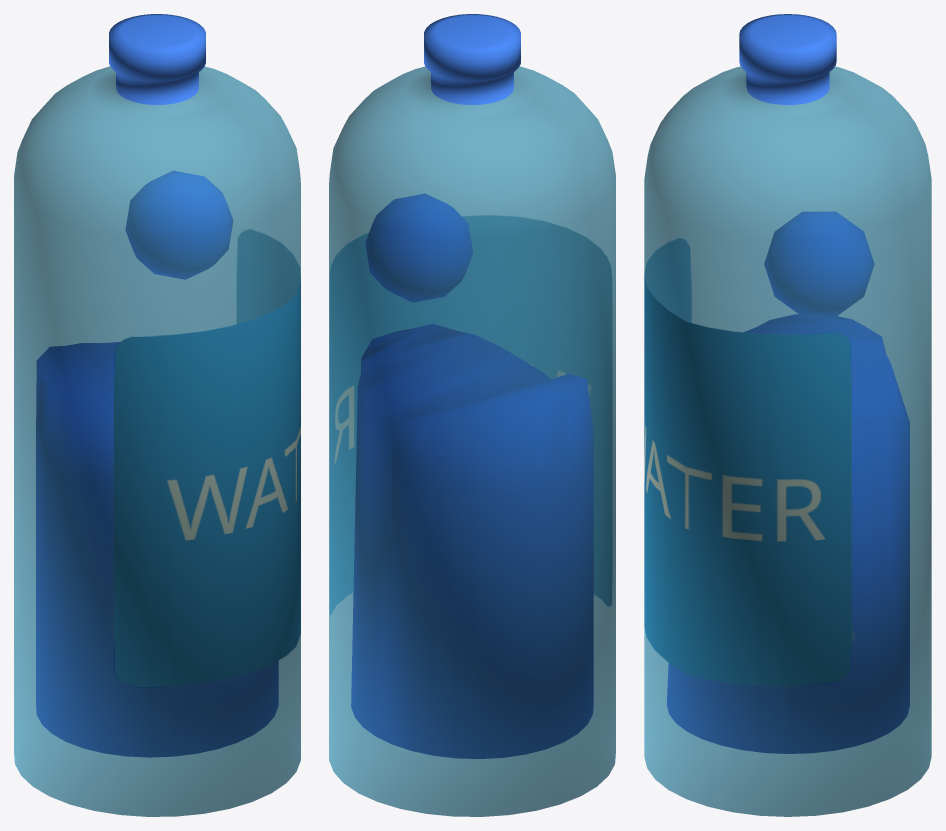
3 renders of one model, left to right at view 1: azimuth 30°, elevation 25°; view 2: azimuth 150°, elevation 25°; view 3: azimuth 270°, elevation 25°, orthographic.
Visible parts, largest first — view 1: Cylinder.002, Cylinder.003; view 2: Cylinder.002, Cylinder.003; view 3: Cylinder.002, Cylinder.003.
Boxes of the visible parts, x1=… form: Cylinder.002: x1=14, y1=14, x2=300, y2=816; Cylinder.003: x1=36, y1=171, x2=278, y2=757; Cylinder.002: x1=329, y1=14, x2=615, y2=816; Cylinder.003: x1=351, y1=194, x2=593, y2=758; Cylinder.002: x1=644, y1=14, x2=931, y2=816; Cylinder.003: x1=667, y1=212, x2=909, y2=753.
Size of the model in its own units: 0.5147 by 1.43 by 0.5147.
2 materials, 1 textured.
